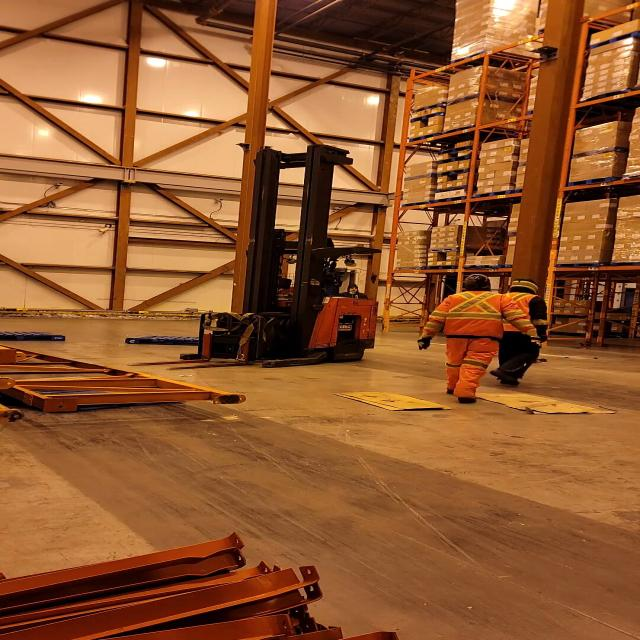forklift: (178, 152, 382, 368)
human: (410, 272, 545, 405), (486, 278, 549, 388), (339, 282, 375, 300)
objectofinterest: (1, 346, 248, 414), (464, 383, 622, 418), (333, 389, 467, 415), (123, 331, 226, 348), (0, 326, 80, 344)
